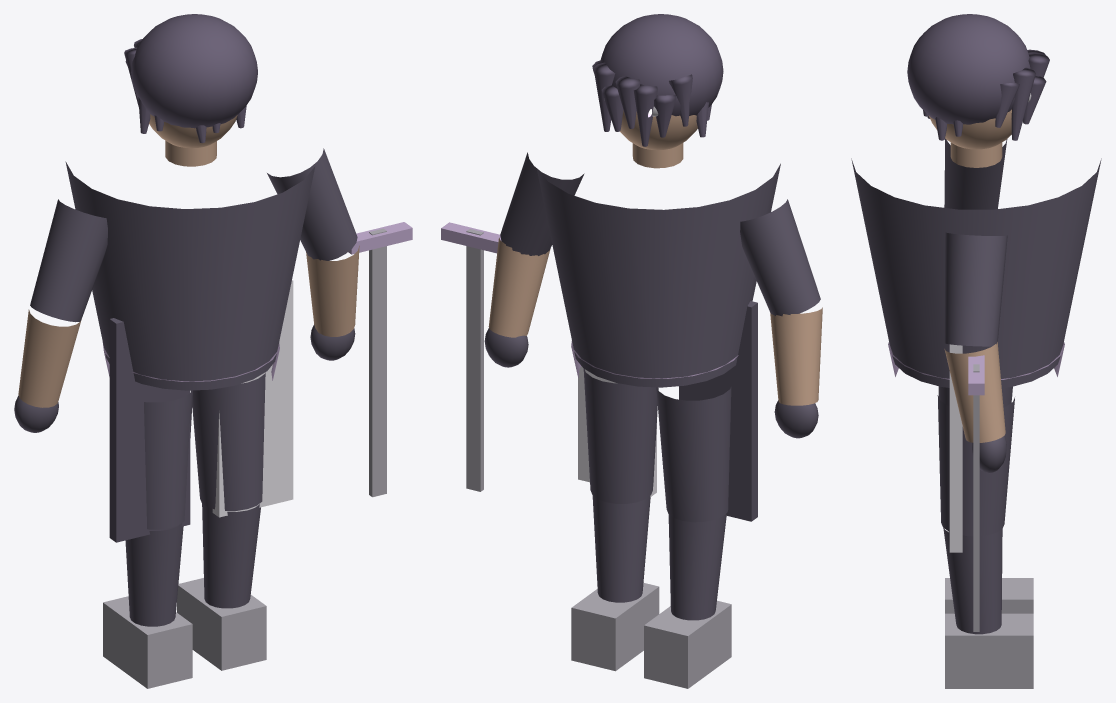
The model's file is volver-procedural-v1.glb.
The picture shows the model from 3 angles, left to right: view 1: azimuth 30°, elevation 25°; view 2: azimuth 150°, elevation 25°; view 3: azimuth 270°, elevation 25°; orthographic projection. The views are drawn at different scales.
Parts seen in each view (by area): view 1: Outfit_Torso, Hair_Cap, Outfit_CoatTail_L, Body_Thigh_R, Body_UpperArm_L, Outfit_CoatTail_R, Outfit_Boot_L, Body_Thigh_L, Outfit_Boot_R, Body_Shin_R, Body_Shin_L, Weapon_SwordBlade (+8 smaller); view 2: Outfit_Torso, Body_Thigh_L, Body_Thigh_R, Hair_Cap, Outfit_CoatTail_L, Body_UpperArm_L, Outfit_Boot_L, Outfit_Boot_R, Body_Shin_R, Body_Shin_L, Weapon_SwordBlade, Body_Forearm_L (+14 smaller); view 3: Outfit_Torso, Hair_Cap, Body_UpperArm_R, Outfit_Boot_R, Body_Thigh_R, Body_Shin_R, Body_Forearm_R, Body_UpperArm_L, Outfit_CoatTail_R, Weapon_SwordBlade, Body_Head, Outfit_Boot_L (+8 smaller).
Part boxes in pixels (x1,y1,x2,y2): Outfit_Torso: (65, 161, 315, 390); Hair_Cap: (131, 14, 257, 128); Outfit_CoatTail_L: (109, 318, 190, 542); Body_Thigh_R: (191, 372, 265, 510); Body_UpperArm_L: (30, 199, 107, 322); Outfit_CoatTail_R: (212, 280, 293, 517); Outfit_Boot_L: (103, 596, 192, 688); Body_Thigh_L: (144, 390, 192, 529); Outfit_Boot_R: (177, 578, 266, 670); Body_Shin_R: (202, 503, 260, 608); Body_Shin_L: (125, 523, 183, 626); Weapon_SwordBlade: (369, 228, 386, 497); Outfit_Torso: (536, 163, 780, 387); Body_Thigh_L: (656, 387, 731, 522); Body_Thigh_R: (583, 369, 658, 503); Hair_Cap: (600, 14, 723, 116); Outfit_CoatTail_L: (679, 301, 757, 521); Body_UpperArm_L: (740, 199, 820, 316); Outfit_Boot_L: (644, 600, 731, 688); Outfit_Boot_R: (571, 583, 659, 671); Body_Shin_R: (592, 495, 650, 602); Body_Shin_L: (668, 514, 726, 620); Weapon_SwordBlade: (466, 229, 483, 491); Body_Forearm_L: (770, 307, 822, 405); Outfit_Torso: (851, 158, 1101, 387); Hair_Cap: (907, 14, 1030, 124); Body_UpperArm_R: (944, 232, 1007, 346); Outfit_Boot_R: (945, 613, 1033, 688); Body_Thigh_R: (937, 395, 1014, 536); Body_Shin_R: (943, 528, 1002, 634); Body_Forearm_R: (944, 342, 1005, 442); Body_UpperArm_L: (944, 138, 1007, 209); Outfit_CoatTail_R: (949, 344, 962, 552); Weapon_SwordBlade: (973, 364, 979, 631); Body_Head: (928, 109, 1011, 149); Outfit_Boot_L: (945, 578, 1033, 613).
Size of the model in its own units: 1.2 by 1.91 by 0.68.
